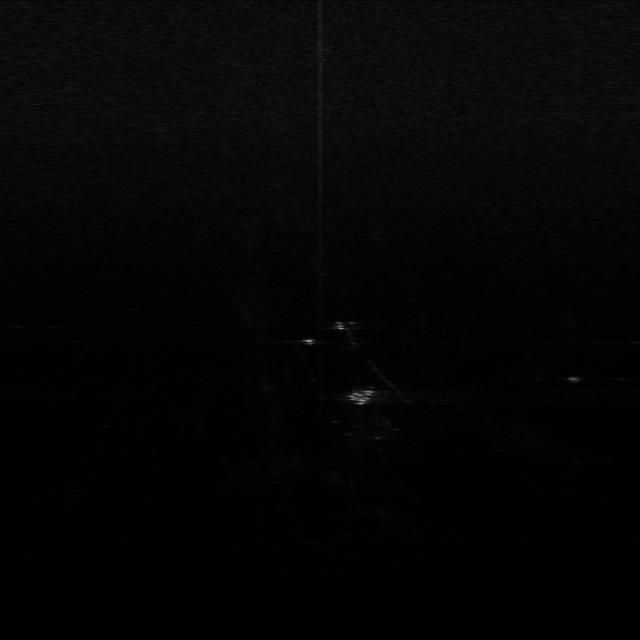rov: (343, 383, 379, 410)
